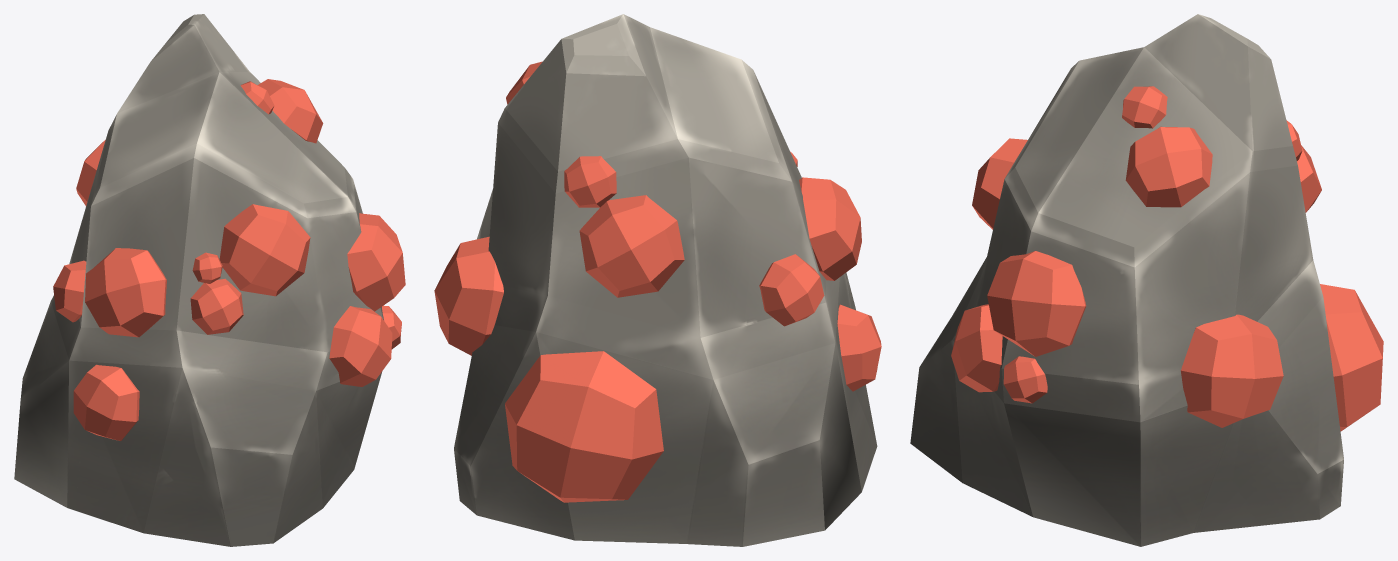
Rendered from 5phiras.glb.
3 renders of one model, left to right at view 1: azimuth 30°, elevation 25°; view 2: azimuth 150°, elevation 25°; view 3: azimuth 270°, elevation 25°, orthographic. The views are drawn at different scales.
Visible parts, largest first — view 1: Object_17; view 2: Object_17; view 3: Object_17.
Boxes of the visible parts, x1,y1,x2,y2 form: Object_17: (14, 14, 405, 546); Object_17: (434, 14, 881, 546); Object_17: (910, 14, 1383, 546).
Bounding box in the file's own units: 0.5314 × 0.6178 × 0.5799.
Materials: 2 (1 with a texture image).
